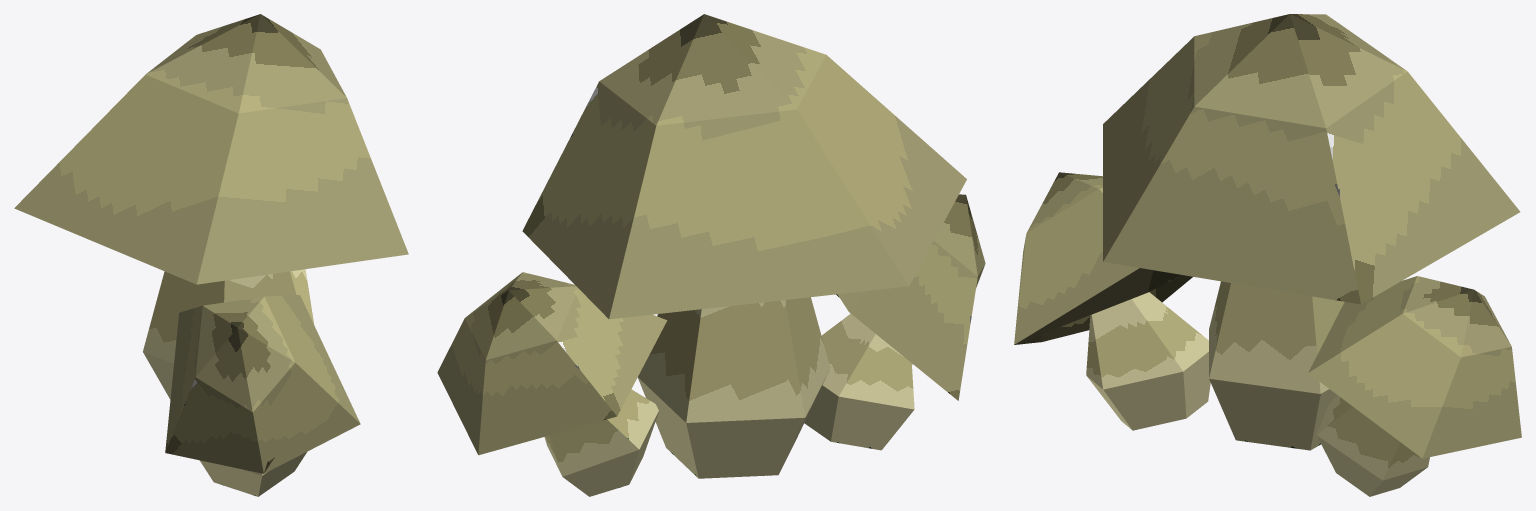
Rendered from mushrooms.fbx.
3 views of the same model, side by side, from view 1: azimuth 30°, elevation 25°; view 2: azimuth 150°, elevation 25°; view 3: azimuth 270°, elevation 25° (orthographic). The views are drawn at different scales.
Parts seen in each view (by area): view 1: Cube; view 2: Cube; view 3: Cube.
Boxes of the visible parts, <box> form: Cube: <box>14,14,408,496</box>; Cube: <box>437,14,985,496</box>; Cube: <box>1014,14,1521,496</box>.
Size of the model in its own units: 0.4469 by 0.4456 by 0.4563.
